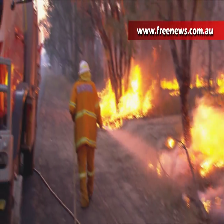fire_h: (97, 57, 157, 129), (190, 94, 224, 178), (190, 73, 213, 89)
fire_l: (160, 74, 179, 90), (217, 73, 224, 93), (202, 199, 211, 213), (183, 194, 190, 208), (155, 161, 161, 177), (167, 138, 174, 148), (170, 89, 179, 96), (148, 163, 153, 169)
